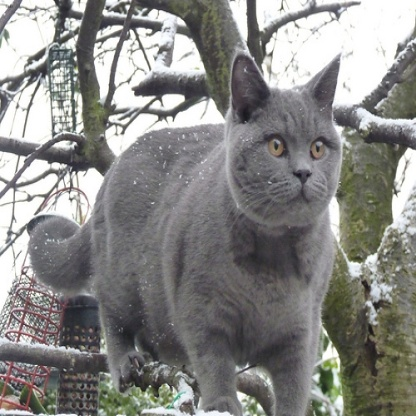british_shorthair: (26, 53, 338, 416)
